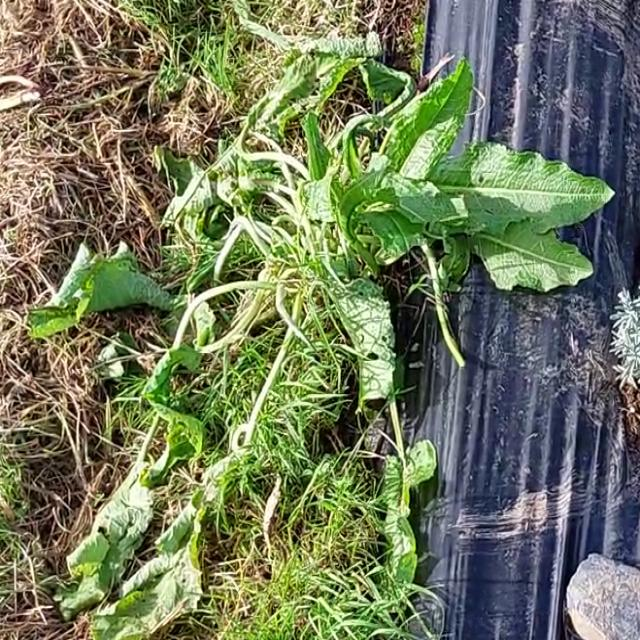organic waste: (34, 103, 619, 626)
